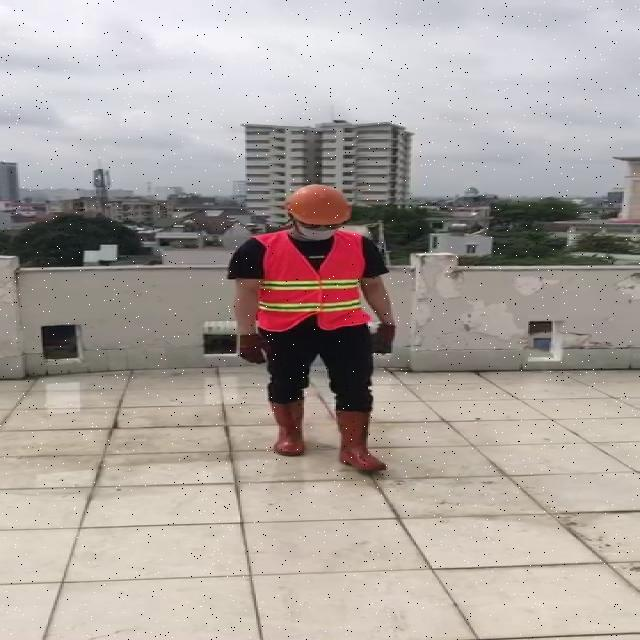Hard_hat: (280, 183, 358, 230)
Vest: (254, 228, 365, 335)
